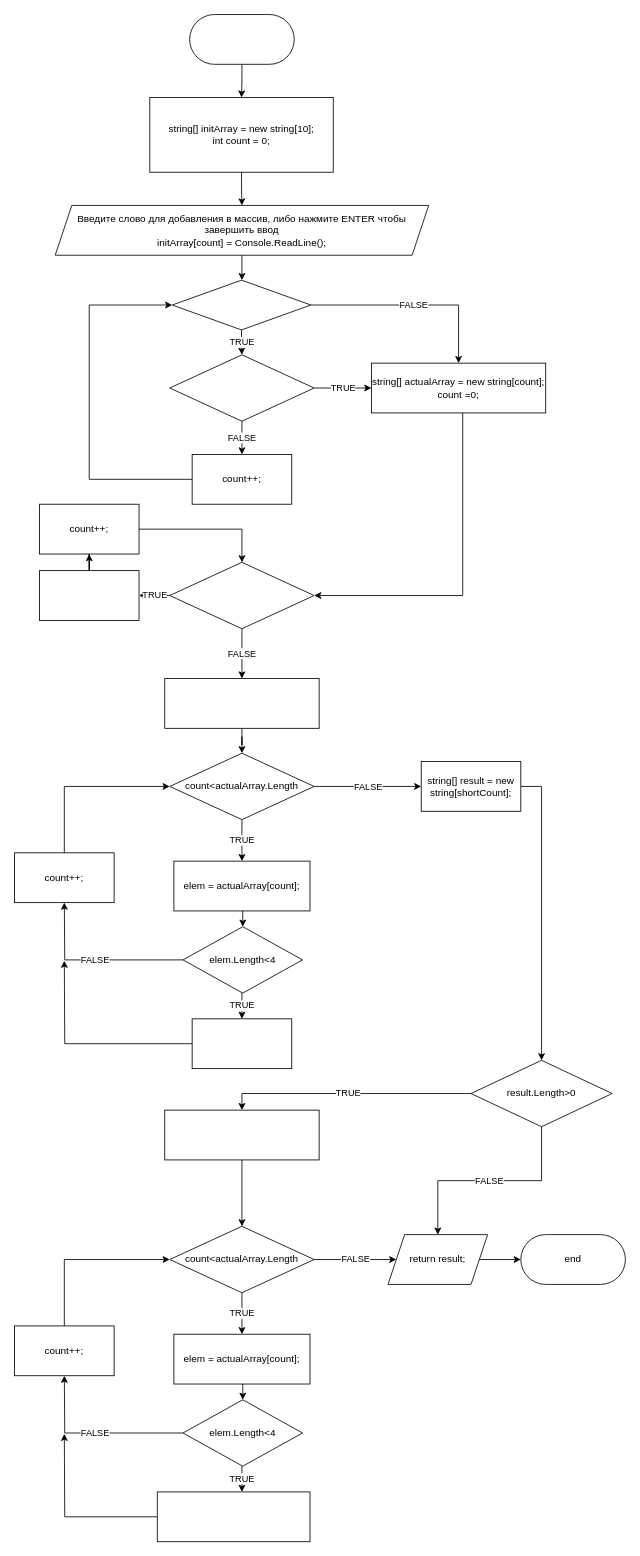
Some shapes in this 640 by 1556 pixel diagram are drawn without their labels. The shapes that lost their labels are listed below. From the top down, each one's centre as x and y in pixels, then its label:
(x=241, y=39): begin
(x=241, y=304): count<initArray.Length
(x=241, y=387): if(initArray[count].IsEmpty)
(x=89, y=595): actualArray[count] = initArray[count];
(x=241, y=595): count< actualArray.Length
(x=241, y=703): count = 0; int shortCount = 0; string elem = String.Empty;
(x=241, y=1043): shortCount++;
(x=241, y=1134): count = 0; shortCount = 0; elem = String.Empty;
(x=233, y=1516): result[shortCount] = elem; shortCount++;
